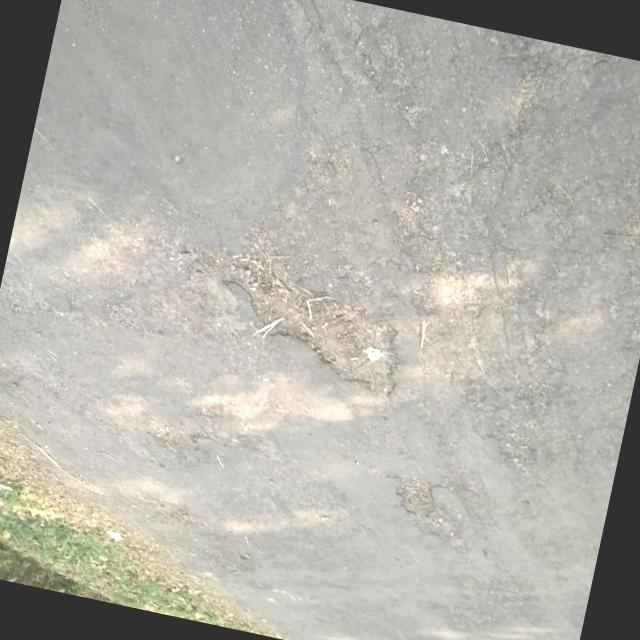pothole: (188, 247, 418, 406), (383, 472, 465, 544), (0, 363, 25, 394)
